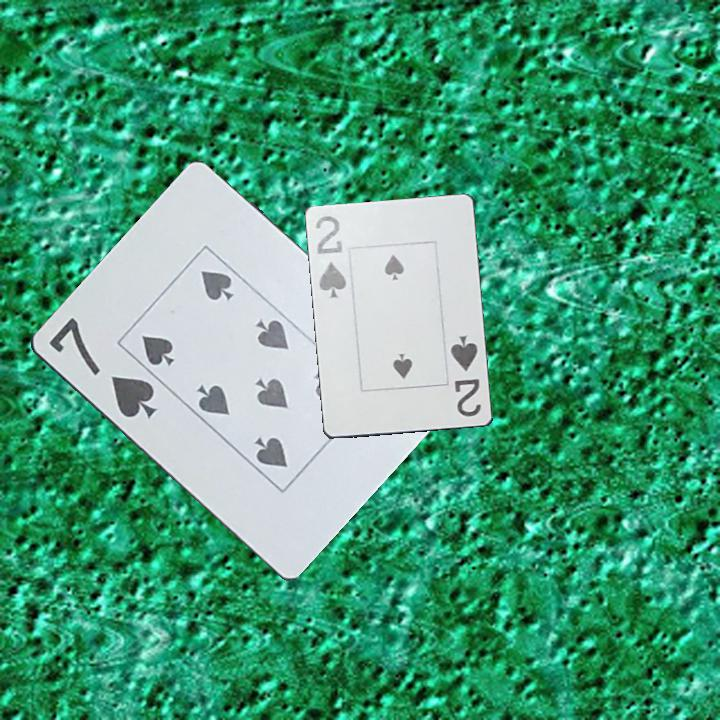2s: (447, 332, 485, 420), (312, 212, 349, 301)
7s: (44, 313, 160, 422)
